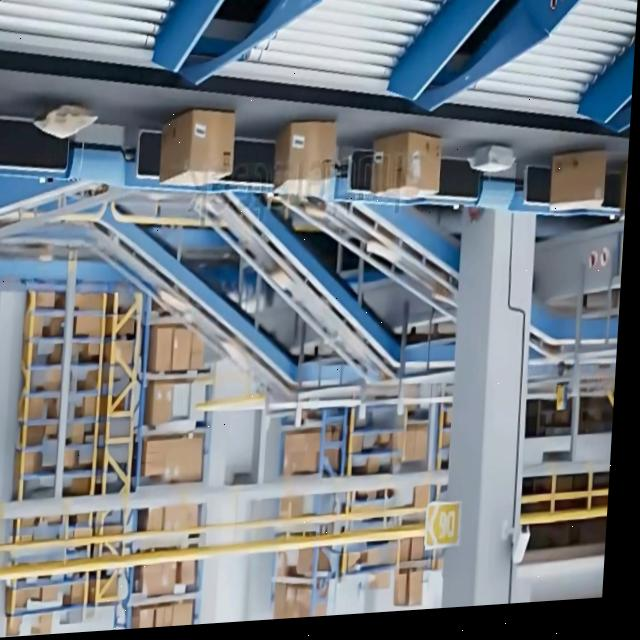product 1: (158, 106, 238, 190), (272, 118, 341, 199), (369, 129, 444, 203)
product 2: (467, 142, 517, 176)
